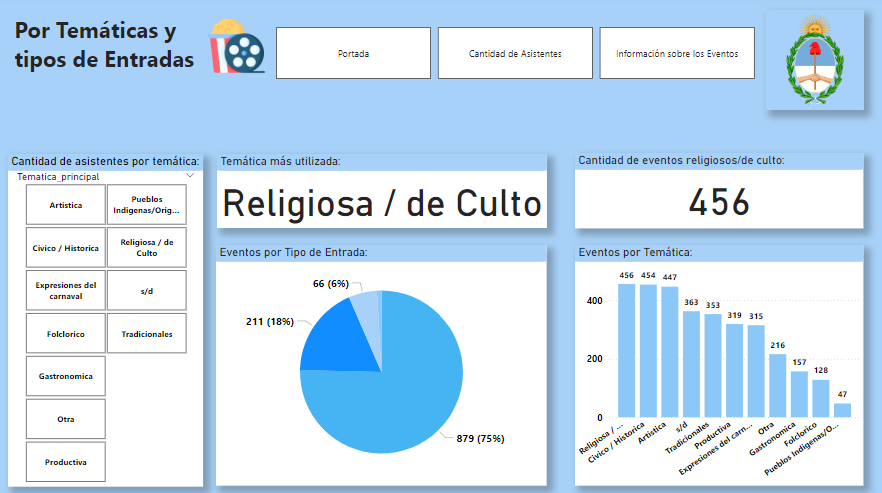

The page's visual inventory and layout, read from the dashboard file:
{"tool":"powerbi","page":{"name":"Por Temáticas y tipos de Entrada ","canvas":[1280,720],"ordinal":3},"visuals":[{"type":"slicer","title":"Cantidad de asistentes por temática","fields":{"Values":["Categoria.Tematica_principal"]},"box":[16.5,227.9,282.4,480.6],"z":0},{"type":"pieChart","fields":{"Category":["Entradas.Tipo_Entrada"],"Y":["_DAX.Eventos por Tipo de Entrada"]},"box":[316.7,360,478.3,348.3],"z":1000},{"type":"clusteredColumnChart","title":"Eventos por Temática ","fields":{"Y":["_DAX.Eventos por Temática"],"Category":["Categoria.Tematica_principal"]},"box":[835.5,360.1,416.9,348],"z":2000},{"type":"card","title":"Temática más utilizada","fields":{"Values":["_DAX.Tematica_mas_usada"]},"box":[318.8,227.9,477.3,107.4],"z":3000},{"type":"image","box":[1111.2,20.7,141.3,144.7],"z":4000},{"type":"card","title":"Cantidad de eventos religiosos/de culto","fields":{"Values":["_DAX.Cantidad_Eventos_Tematica_Mas_Usada"]},"box":[835.5,227.4,416.9,108.5],"z":5000},{"type":"textbox","box":[20.7,20.7,279.1,103.4],"z":6000},{"type":"image","box":[299.8,24.1,93,94.8],"z":7000},{"type":"pageNavigator","box":[403.4,44.8,694,75.2],"z":8000}]}

Visuals, with their boxes in screenshot pixels (x1, y1, x2, y2), scaled from the page's 1280x720 canvas onto the 882x493 screenshot:
"Cantidad de asistentes por temática" slicer: {"x1": 11, "y1": 156, "x2": 206, "y2": 485}
pieChart - Entradas.Tipo_Entrada x _DAX.Eventos por Tipo de Entrada: {"x1": 218, "y1": 246, "x2": 548, "y2": 485}
"Eventos por Temática " clusteredColumnChart: {"x1": 576, "y1": 247, "x2": 863, "y2": 485}
"Temática más utilizada" card: {"x1": 220, "y1": 156, "x2": 549, "y2": 230}
image: {"x1": 766, "y1": 14, "x2": 863, "y2": 113}
"Cantidad de eventos religiosos/de culto" card: {"x1": 576, "y1": 156, "x2": 863, "y2": 230}
textbox: {"x1": 14, "y1": 14, "x2": 207, "y2": 85}
image: {"x1": 207, "y1": 17, "x2": 271, "y2": 81}
pageNavigator: {"x1": 278, "y1": 31, "x2": 756, "y2": 82}
